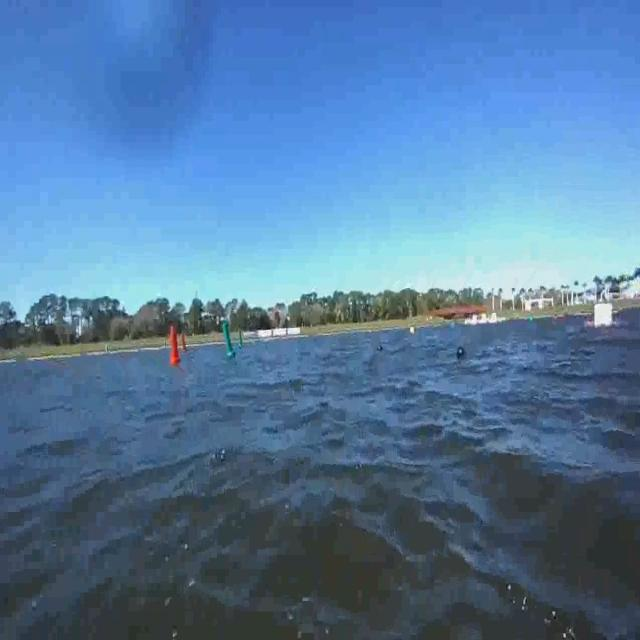black-buoy: (456, 342, 468, 361), (378, 344, 384, 354)
green-column-buoy: (221, 322, 235, 359)
red-column-buoy: (169, 325, 182, 364), (183, 334, 191, 352)
